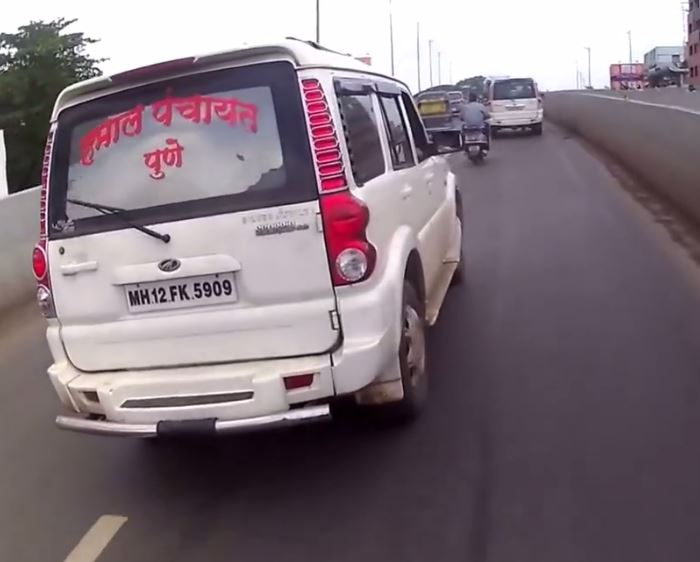autorickshaw: (419, 73, 489, 162)
car: (31, 35, 472, 450), (478, 65, 548, 147)
